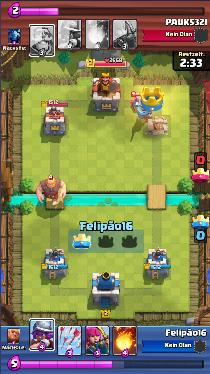ally_knight: (137, 105, 152, 122)
enemy_giant: (35, 178, 66, 206)
enemy_mini_pekka: (130, 96, 140, 108)
